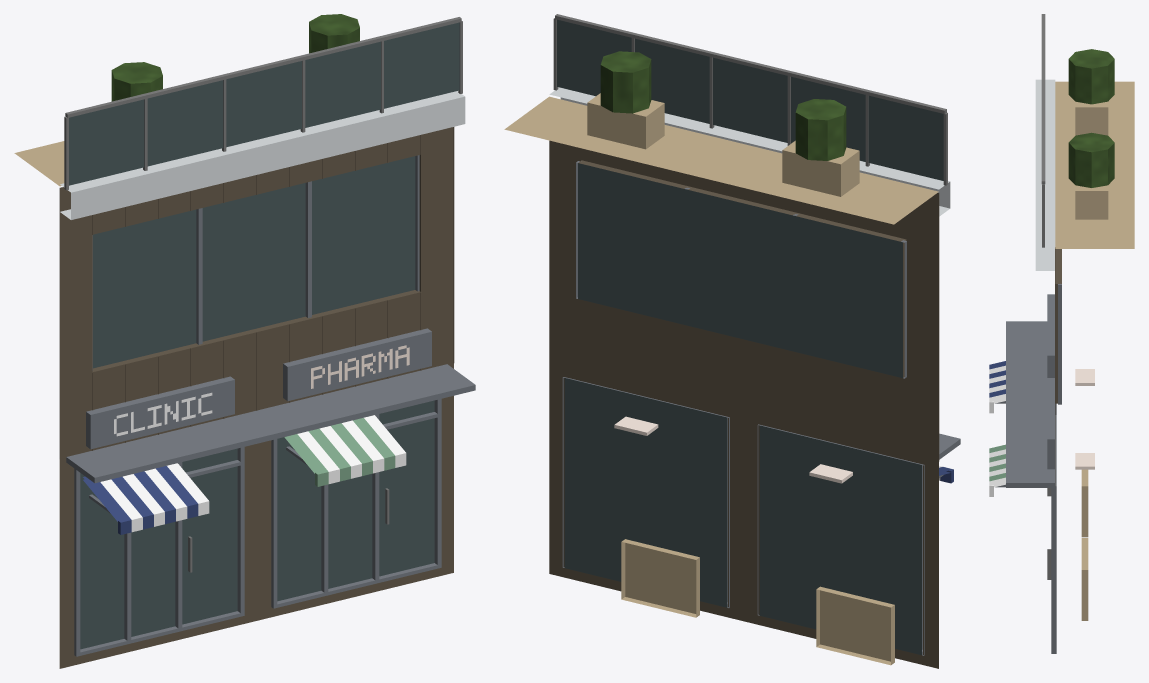
The model's file is base-w4_close.fbx.
3 views of the same model, side by side, from view 1: azimuth 30°, elevation 25°; view 2: azimuth 150°, elevation 25°; view 3: azimuth 270°, elevation 25° (orthographic). The views are drawn at different scales.
Visible parts, largest first — view 1: a2010/0/base-w4_close; view 2: a2010/0/base-w4_close; view 3: a2010/0/base-w4_close.
Boxes of the visible parts, x1,y1,x2,y2 form: a2010/0/base-w4_close: (14, 14, 475, 668); a2010/0/base-w4_close: (504, 14, 960, 668); a2010/0/base-w4_close: (989, 14, 1134, 653).
Bounding box in the file's own units: 6.04 × 8.15 × 2.2.
